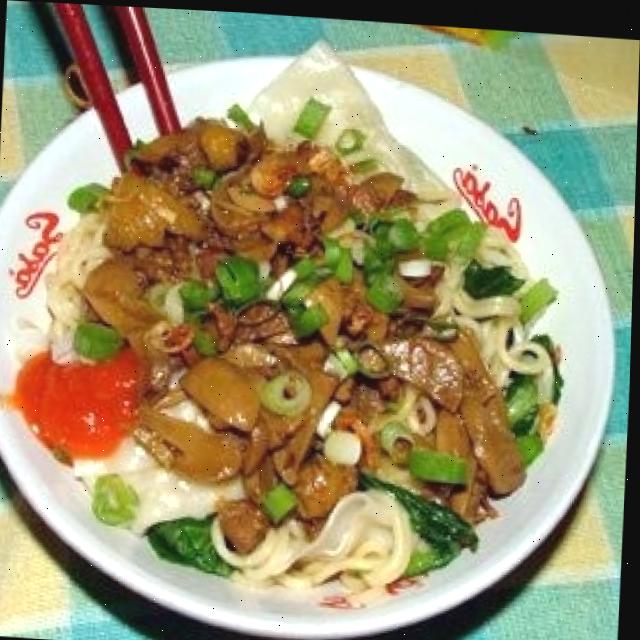面条主食: (0, 19, 608, 637)
